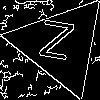Z: (35, 19, 76, 70)
